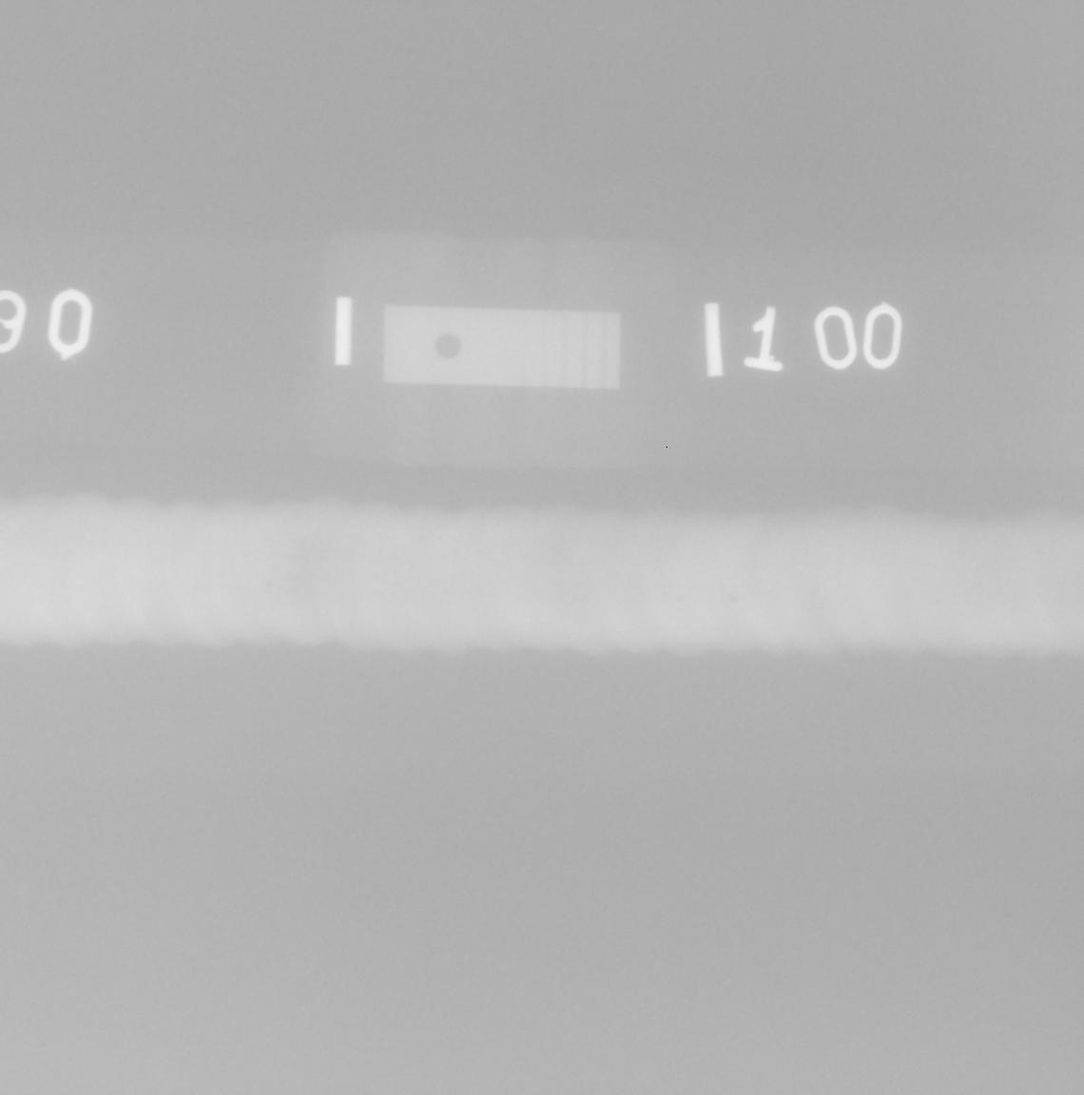Pore/Porosity: (266, 581, 272, 590), (730, 596, 736, 601), (581, 596, 587, 601), (935, 600, 940, 605), (243, 553, 248, 558)
Reference Standard 1: (383, 305, 619, 387)
